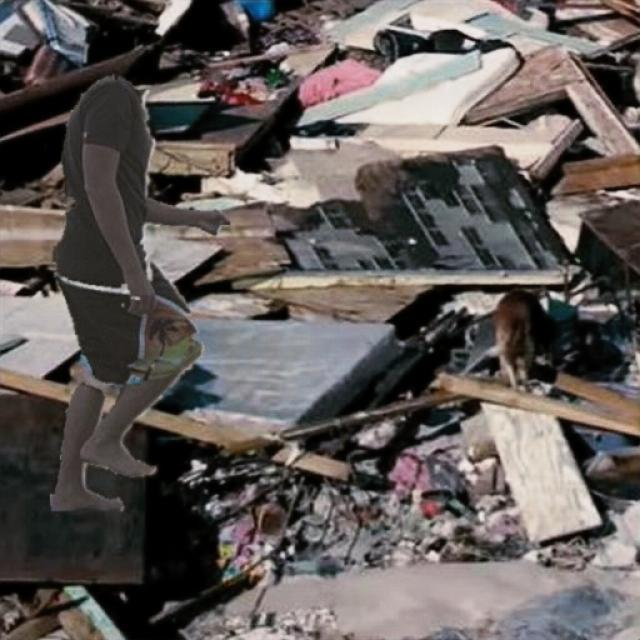Person in Rubble: (50, 74, 229, 510)
